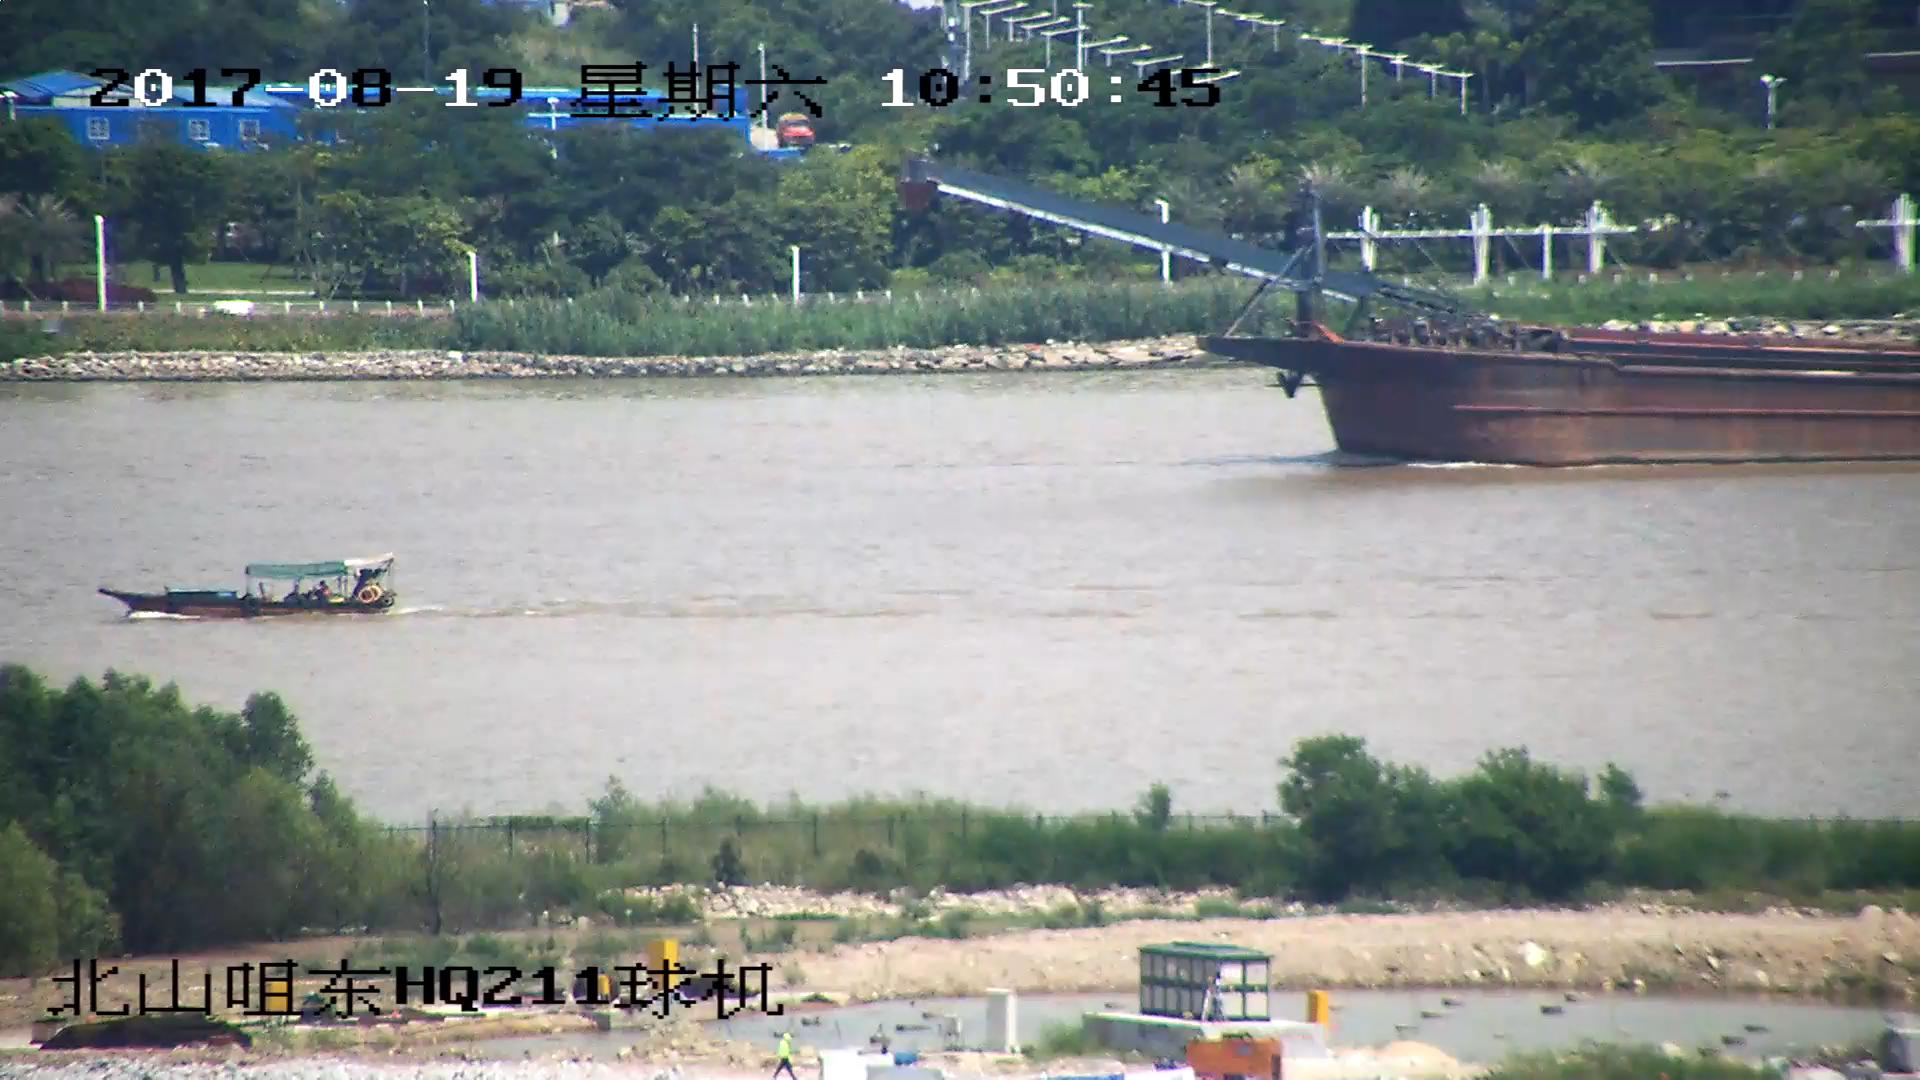bulk cargo carrier: (918, 162, 1920, 462)
fishing boat: (96, 557, 397, 617)
